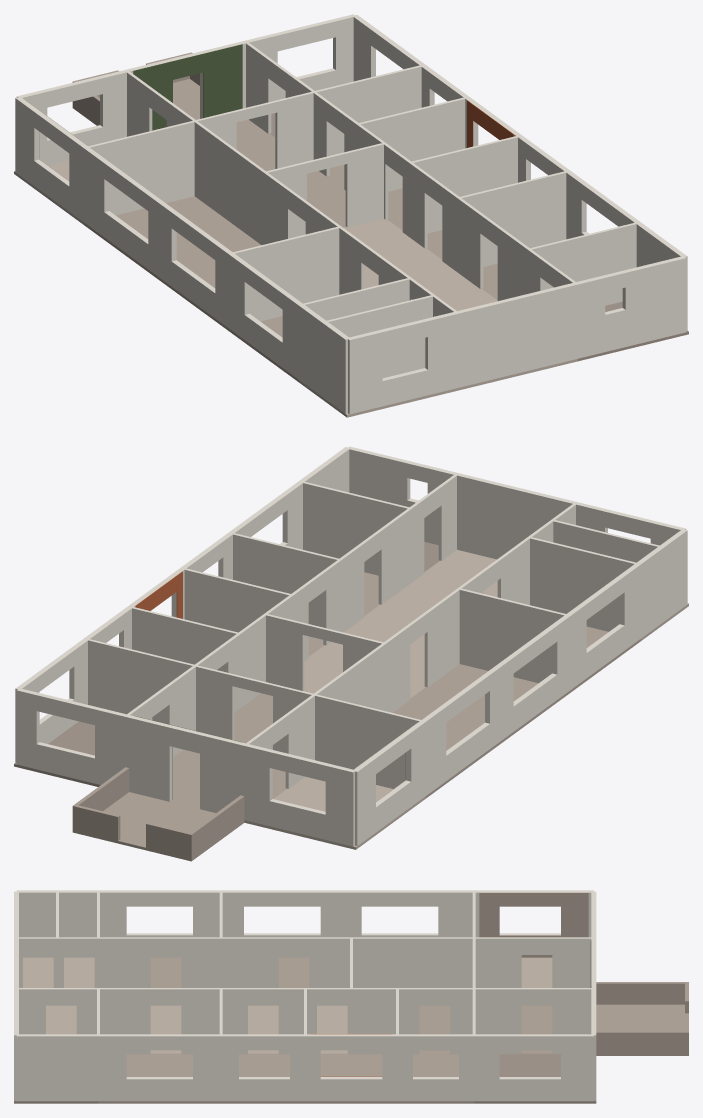
3 renders of one model, top to bottom at view 1: azimuth 30°, elevation 25°; view 2: azimuth 150°, elevation 25°; view 3: azimuth 270°, elevation 25°, orthographic. The views are drawn at different scales.
Parts seen in each view (by area): view 1: oficina_2_estructura; view 2: oficina_2_estructura; view 3: oficina_2_estructura.
Part boxes in pixels (bbox=[...]): oficina_2_estructura: bbox=[14, 14, 688, 417]; oficina_2_estructura: bbox=[14, 446, 688, 861]; oficina_2_estructura: bbox=[14, 890, 688, 1103].
Bounding box in the file's own units: 13.5 × 26.4 × 2.9.
